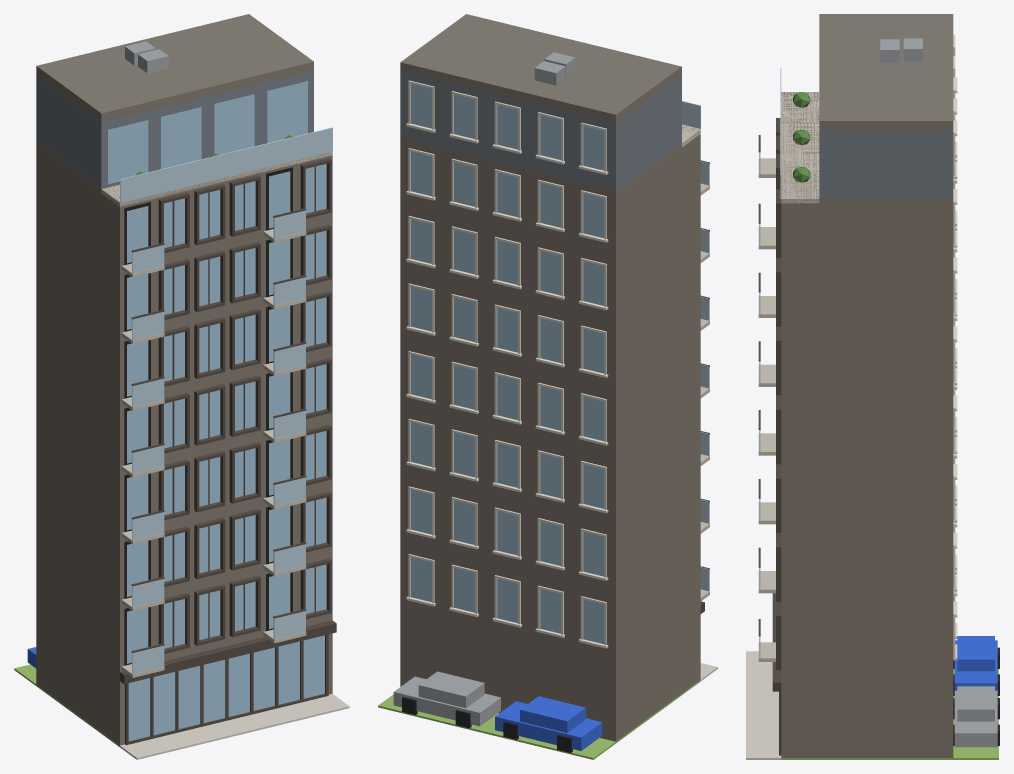
The model's file is Blok_duz_9k_4_Hafif.fbx.
3 renders of one model, left to right at view 1: azimuth 30°, elevation 25°; view 2: azimuth 150°, elevation 25°; view 3: azimuth 270°, elevation 25°, orthographic. The views are drawn at different scales.
Visible parts, largest first — view 1: Blok_duz_9k_4_Hafif; view 2: Blok_duz_9k_4_Hafif; view 3: Blok_duz_9k_4_Hafif.
Boxes of the visible parts, x1=… form: Blok_duz_9k_4_Hafif: x1=14, y1=14, x2=349, y2=759; Blok_duz_9k_4_Hafif: x1=378, y1=14, x2=717, y2=759; Blok_duz_9k_4_Hafif: x1=746, y1=14, x2=999, y2=759.
Size of the model in its own units: 10 by 28.43 by 10.04.
